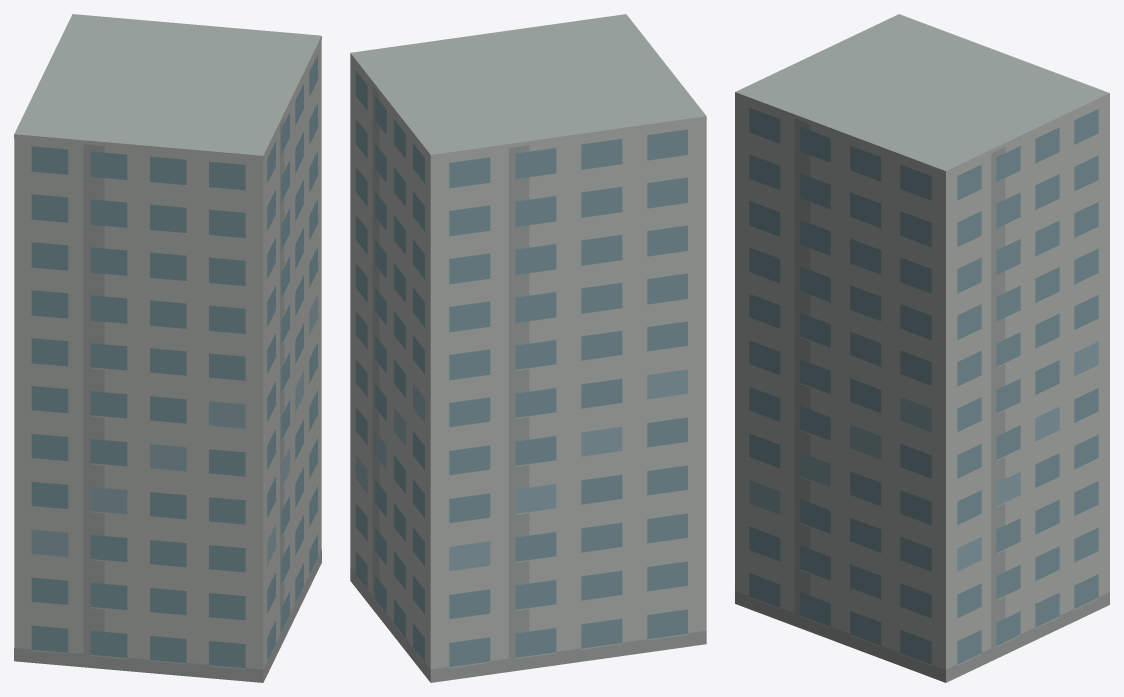
File: residential-1d5efc38-9636-412c-88ed-a164b7fb3b72.glb
The picture shows the model from 3 angles, left to right: view 1: azimuth 30°, elevation 25°; view 2: azimuth 150°, elevation 25°; view 3: azimuth 270°, elevation 25°; orthographic projection. The views are drawn at different scales.
Parts seen in each view (by area): view 1: residential-1d5efc38-9636-412c-88ed-a164b7fb3b72.tmp; view 2: residential-1d5efc38-9636-412c-88ed-a164b7fb3b72.tmp; view 3: residential-1d5efc38-9636-412c-88ed-a164b7fb3b72.tmp.
Part boxes in pixels (bbox=[...]): residential-1d5efc38-9636-412c-88ed-a164b7fb3b72.tmp: bbox=[14, 14, 321, 682]; residential-1d5efc38-9636-412c-88ed-a164b7fb3b72.tmp: bbox=[350, 14, 706, 682]; residential-1d5efc38-9636-412c-88ed-a164b7fb3b72.tmp: bbox=[735, 14, 1109, 682].
Bounding box in the file's own units: 21.08 × 32 × 21.25.
